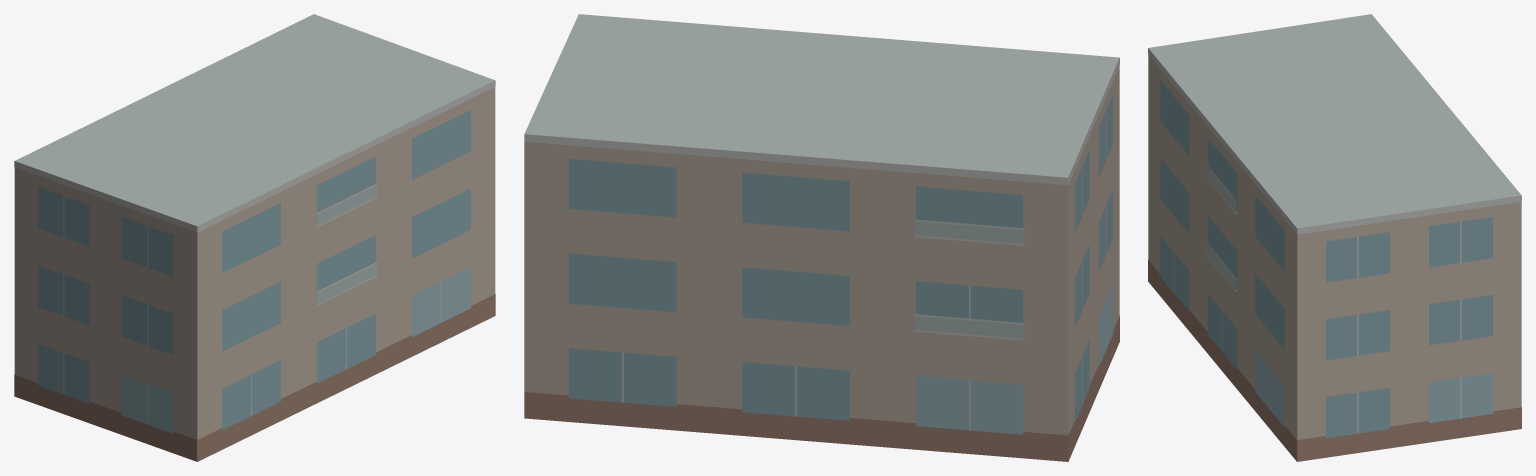
The model's file is survey-upis-32702165.glb.
3 views of the same model, side by side, from view 1: azimuth 30°, elevation 25°; view 2: azimuth 150°, elevation 25°; view 3: azimuth 270°, elevation 25° (orthographic). The views are drawn at different scales.
Visible parts, largest first — view 1: survey-upis-32702165.tmp; view 2: survey-upis-32702165.tmp; view 3: survey-upis-32702165.tmp.
Part boxes in pixels (x1,y1,x2,y2): survey-upis-32702165.tmp: (14, 14, 495, 461); survey-upis-32702165.tmp: (524, 14, 1119, 461); survey-upis-32702165.tmp: (1148, 14, 1521, 461).
Bounding box in the file's own units: 18.03 × 9.15 × 13.28.
